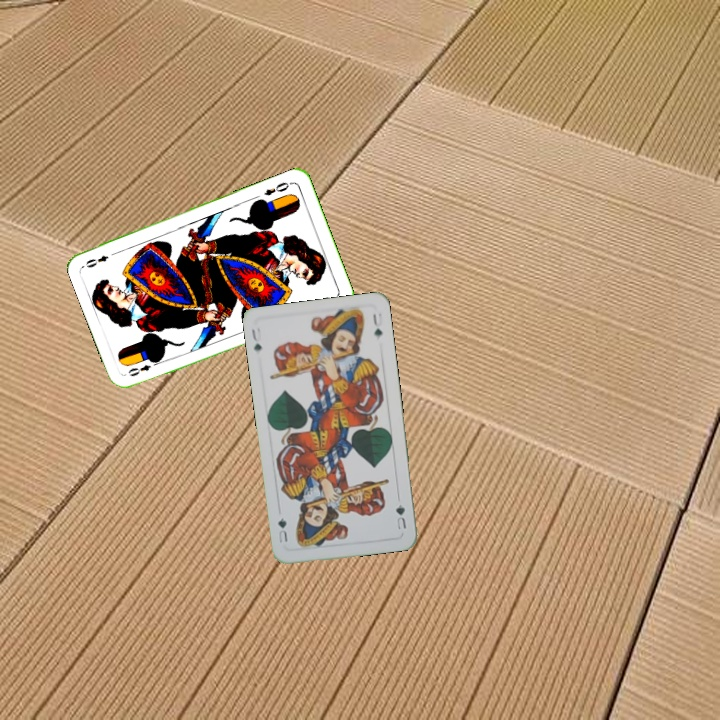EO: (124, 356, 162, 379), (259, 178, 291, 198)
GU: (391, 500, 409, 532), (247, 324, 264, 353)
